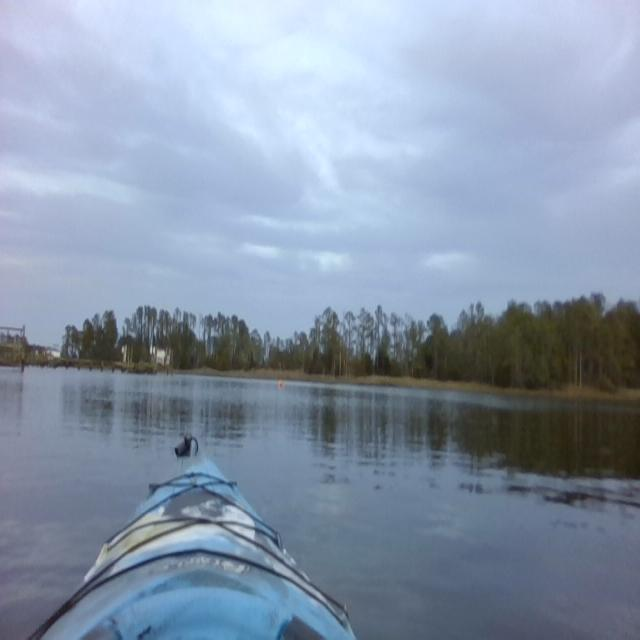Buoy: (277, 378, 285, 389)
